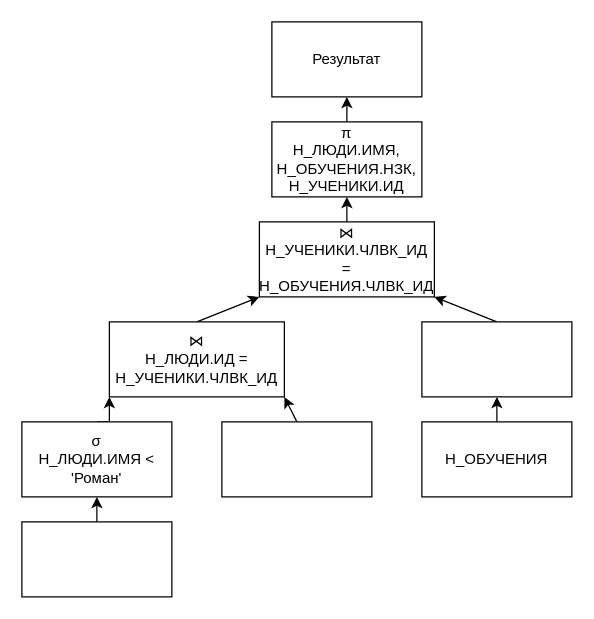
The diagram is 594 pixels wide and 619 high, and some of its shapes have lost their labels. Each missing label, with the box of its shape:
σ Н_ОБУЧЕНИЯ.НЗК < '001000': (421, 321, 572, 397)
Н_ЛЮДИ: (21, 521, 172, 597)
Н_УЧЕНИКИ: (221, 421, 372, 497)
